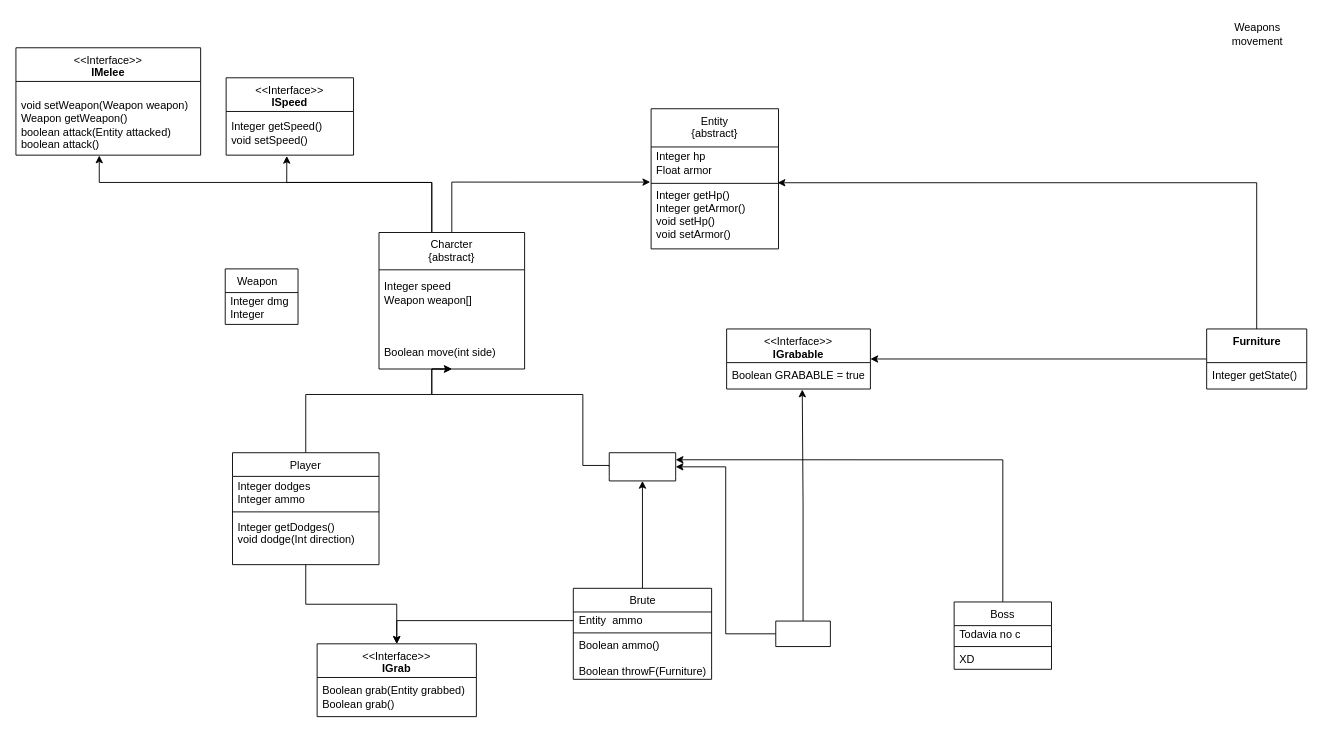
This 1323x733 diagram has some shape labels left out. The shapes that lost their labels are listed below. From the top down, each one's centre as x and y in pixels, then its label:
At [642,466]: "Enemy".
At [802,633]: "Zombie".
